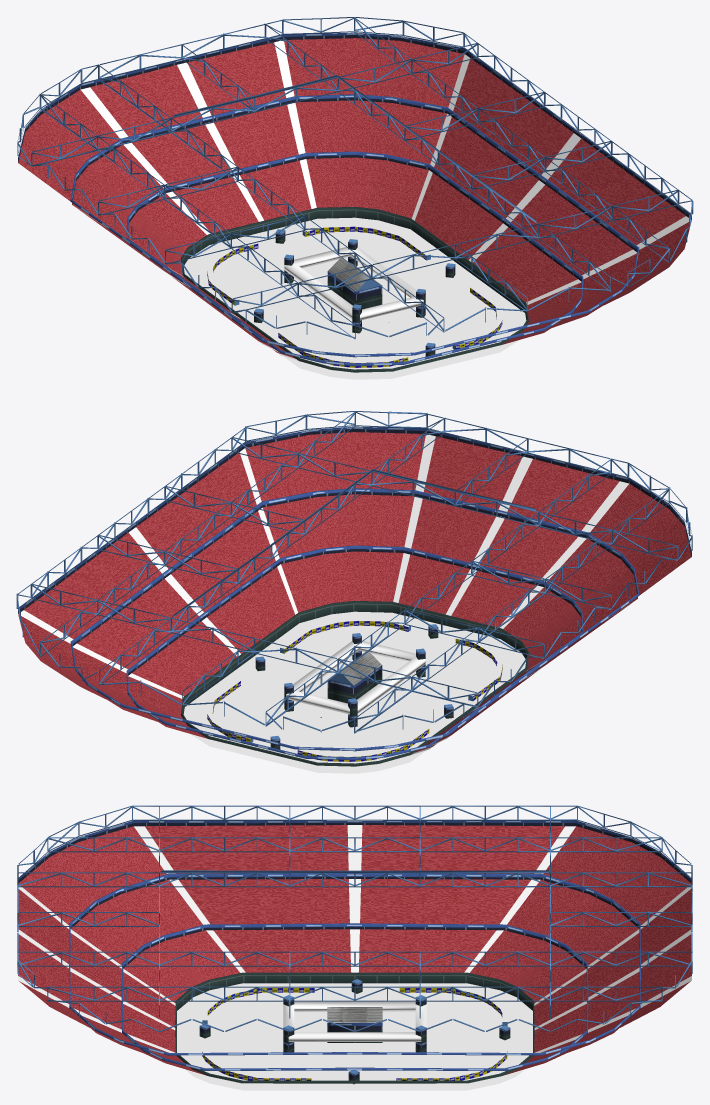
The model's file is stadium_track.glb.
3 renders of one model, top to bottom at view 1: azimuth 30°, elevation 25°; view 2: azimuth 150°, elevation 25°; view 3: azimuth 270°, elevation 25°, orthographic. The views are drawn at different scales.
Parts seen in each view (by area): view 1: racetrack_red.jpg__, city_metal.jpg__, racetrack_grass.jpg__, racetrack_stadium.jpg__, city_concrete.png__, racetrack_curbs.jpg__, racetrack_roof.jpg__; view 2: racetrack_red.jpg__, city_metal.jpg__, racetrack_grass.jpg__, racetrack_stadium.jpg__, city_concrete.png__, racetrack_curbs.jpg__, racetrack_roof.jpg__; view 3: racetrack_red.jpg__, city_metal.jpg__, racetrack_grass.jpg__, racetrack_stadium.jpg__, city_concrete.png__, racetrack_curbs.jpg__, racetrack_roof.jpg__.
Part boxes in pixels (x1,y1,x2,y2): racetrack_red.jpg__: [18, 38, 691, 358]; city_metal.jpg__: [17, 17, 693, 349]; racetrack_grass.jpg__: [184, 217, 526, 379]; racetrack_stadium.jpg__: [18, 32, 691, 372]; city_concrete.png__: [74, 40, 691, 362]; racetrack_curbs.jpg__: [207, 226, 502, 367]; racetrack_roof.jpg__: [328, 258, 380, 291]; racetrack_red.jpg__: [18, 432, 691, 752]; city_metal.jpg__: [16, 411, 692, 742]; racetrack_grass.jpg__: [183, 611, 525, 773]; racetrack_stadium.jpg__: [18, 426, 691, 766]; city_concrete.png__: [18, 434, 635, 756]; racetrack_curbs.jpg__: [207, 621, 502, 761]; racetrack_roof.jpg__: [330, 652, 381, 685]; racetrack_red.jpg__: [18, 825, 691, 1075]; city_metal.jpg__: [17, 805, 692, 1073]; racetrack_grass.jpg__: [177, 983, 532, 1090]; racetrack_stadium.jpg__: [18, 820, 691, 1084]; city_concrete.png__: [17, 825, 692, 1078]; racetrack_curbs.jpg__: [202, 988, 507, 1080]; racetrack_roof.jpg__: [327, 1007, 382, 1022].
Bounding box in the file's own units: 283 × 80.22 × 378.
Materials: 9 (5 with a texture image).
